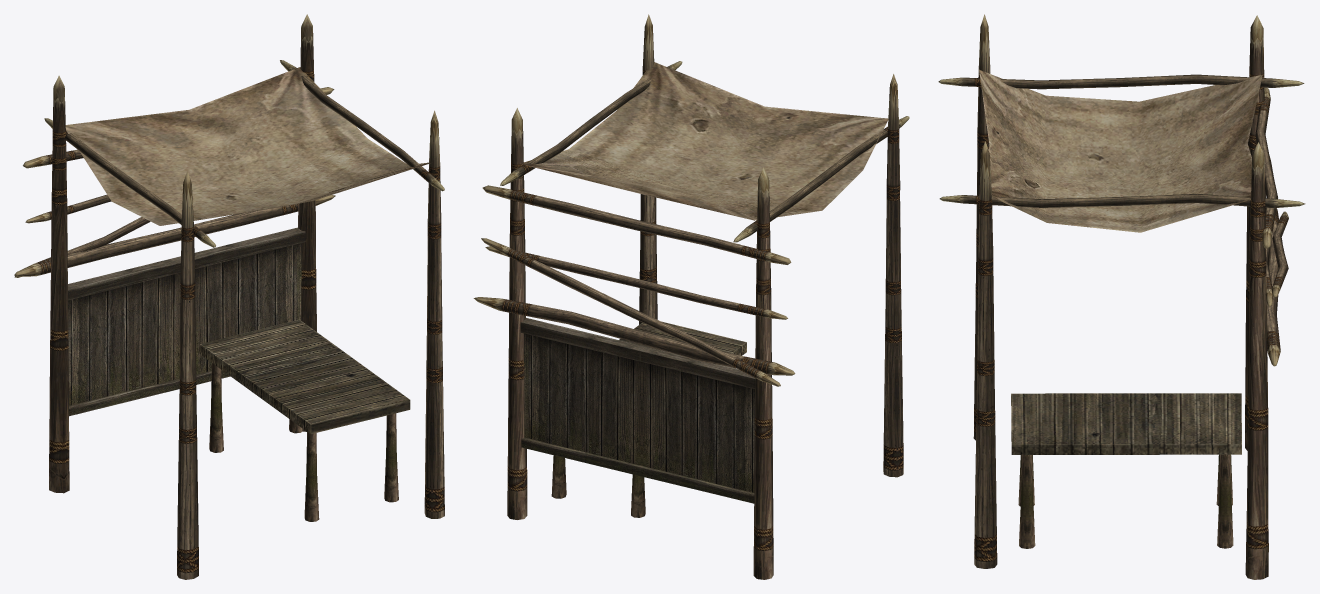
Rendered from gaint_builda_06.fbx.
The picture shows the model from 3 angles, left to right: view 1: azimuth 30°, elevation 25°; view 2: azimuth 150°, elevation 25°; view 3: azimuth 270°, elevation 25°; orthographic projection. The views are drawn at different scales.
Visible parts, largest first — view 1: Object01, Object; view 2: Object01, Object; view 3: Object01, Object.
Boxes of the visible parts, x1=… form: Object01: x1=65, y1=67, x2=430, y2=434; Object: x1=14, y1=14, x2=444, y2=579; Object01: x1=520, y1=62, x2=888, y2=503; Object: x1=473, y1=14, x2=909, y2=579; Object01: x1=979, y1=69, x2=1262, y2=454; Object: x1=938, y1=14, x2=1305, y2=579.
Bounding box in the file's own units: 9.95 × 12.13 × 9.33.
